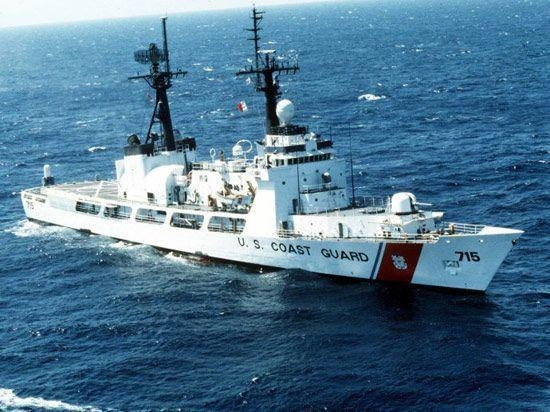warship: (19, 1, 528, 290)
